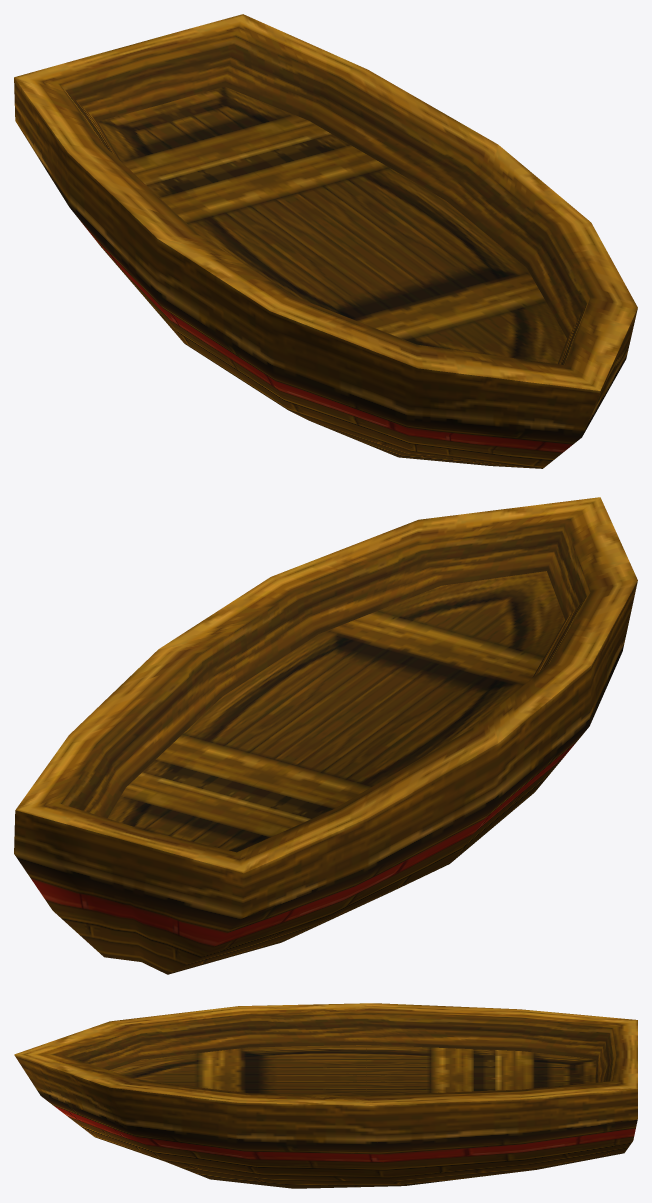
Rendered from INST_LT_BOAT_IDLE.fbx.
3 renders of one model, top to bottom at view 1: azimuth 30°, elevation 25°; view 2: azimuth 150°, elevation 25°; view 3: azimuth 270°, elevation 25°, orthographic. The views are drawn at different scales.
Visible parts, largest first — view 1: INST_LT_BOAT_IDLE; view 2: INST_LT_BOAT_IDLE; view 3: INST_LT_BOAT_IDLE.
Part boxes in pixels (box(x1,y1,x2,y2)): INST_LT_BOAT_IDLE: box(14, 14, 637, 468); INST_LT_BOAT_IDLE: box(14, 497, 637, 974); INST_LT_BOAT_IDLE: box(14, 1003, 637, 1188).
Size of the model in its own units: 11813 by 6120 by 28179.
2 materials, 2 textured.
